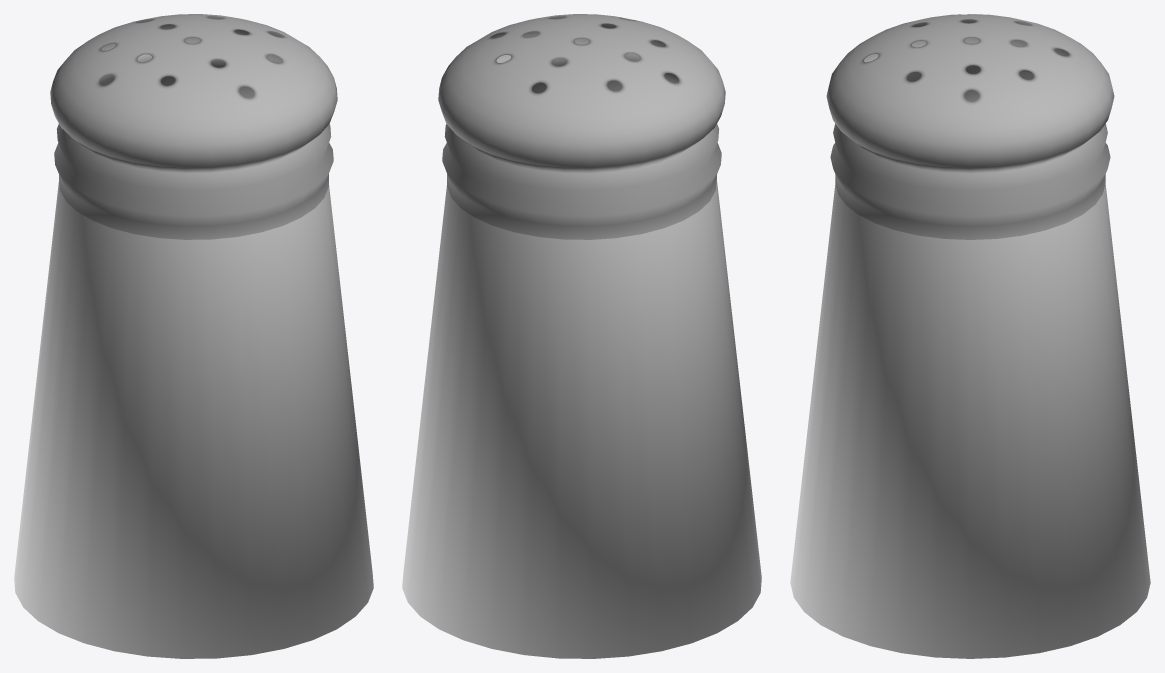
File: Shaker.fbx
3 views of the same model, side by side, from view 1: azimuth 30°, elevation 25°; view 2: azimuth 150°, elevation 25°; view 3: azimuth 270°, elevation 25° (orthographic).
Visible parts, largest first — view 1: Cylinder; view 2: Cylinder; view 3: Cylinder.
Part boxes in pixels (x1,y1,x2,y2): Cylinder: (14,14,373,658); Cylinder: (402,14,761,658); Cylinder: (790,14,1150,658).
Size of the model in its own units: 163 by 271 by 163.
3 materials, 1 textured.
